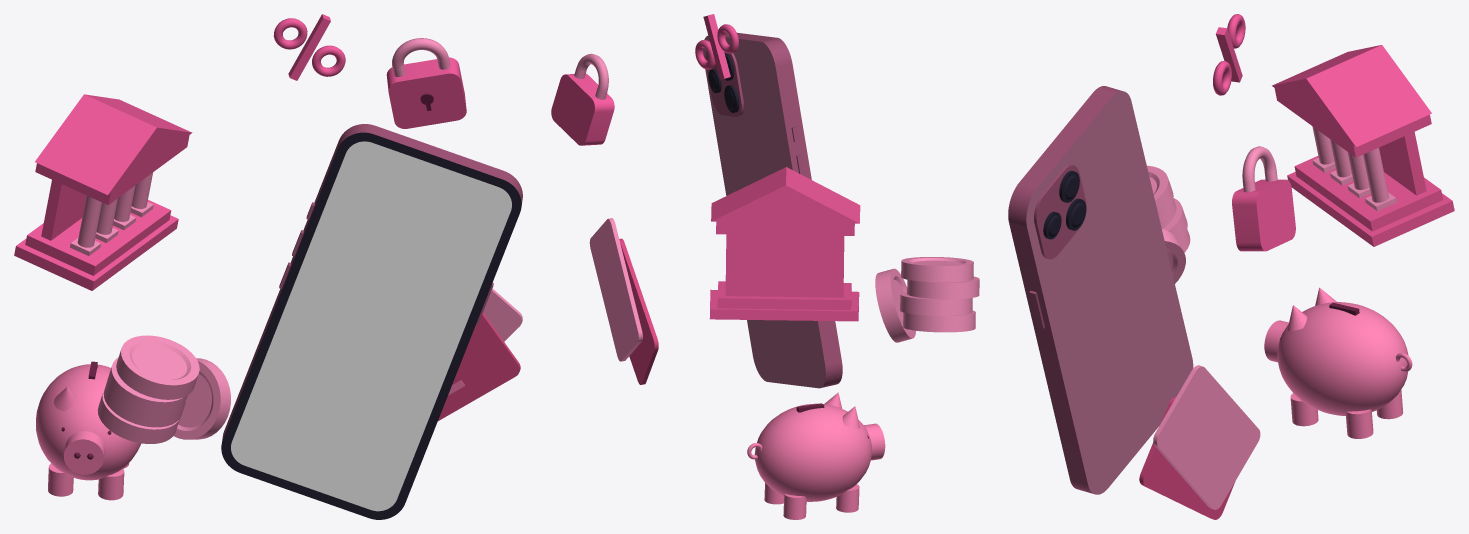
The picture shows the model from 3 angles, left to right: view 1: azimuth 30°, elevation 25°; view 2: azimuth 150°, elevation 25°; view 3: azimuth 270°, elevation 25°; orthographic projection. The views are drawn at different scales.
Parts seen in each view (by area): view 1: Phone_mesh, Bank_mesh, Coins_mesh, PiggyBank_mesh, Padlock_mesh, Cards_mesh, Percent_mesh; view 2: Bank_mesh, Phone_mesh, PiggyBank_mesh, Coins_mesh, Cards_mesh, Padlock_mesh, Percent_mesh; view 3: Phone_mesh, Bank_mesh, PiggyBank_mesh, Cards_mesh, Padlock_mesh, Coins_mesh, Percent_mesh.
Boxes of the visible parts, x1=… form: Phone_mesh: x1=221, y1=124, x2=522, y2=519; Bank_mesh: x1=14, y1=94, x2=192, y2=290; Coins_mesh: x1=97, y1=335, x2=230, y2=443; PiggyBank_mesh: x1=36, y1=361, x2=141, y2=500; Padlock_mesh: x1=386, y1=38, x2=466, y2=128; Cards_mesh: x1=438, y1=288, x2=522, y2=420; Percent_mesh: x1=273, y1=14, x2=345, y2=80; Bank_mesh: x1=709, y1=167, x2=860, y2=321; Phone_mesh: x1=703, y1=32, x2=842, y2=388; PiggyBank_mesh: x1=747, y1=392, x2=885, y2=519; Coins_mesh: x1=875, y1=257, x2=979, y2=342; Cards_mesh: x1=589, y1=218, x2=658, y2=384; Padlock_mesh: x1=551, y1=53, x2=614, y2=145; Percent_mesh: x1=695, y1=14, x2=738, y2=79; Phone_mesh: x1=1008, y1=86, x2=1193, y2=494; Bank_mesh: x1=1272, y1=45, x2=1454, y2=246; PiggyBank_mesh: x1=1264, y1=287, x2=1412, y2=438; Cards_mesh: x1=1139, y1=365, x2=1260, y2=519; Padlock_mesh: x1=1232, y1=146, x2=1295, y2=251; Coins_mesh: x1=1147, y1=165, x2=1190, y2=283; Percent_mesh: x1=1213, y1=14, x2=1245, y2=95.
Bounding box in the file's own units: 0.1804 × 0.1897 × 0.1598.
